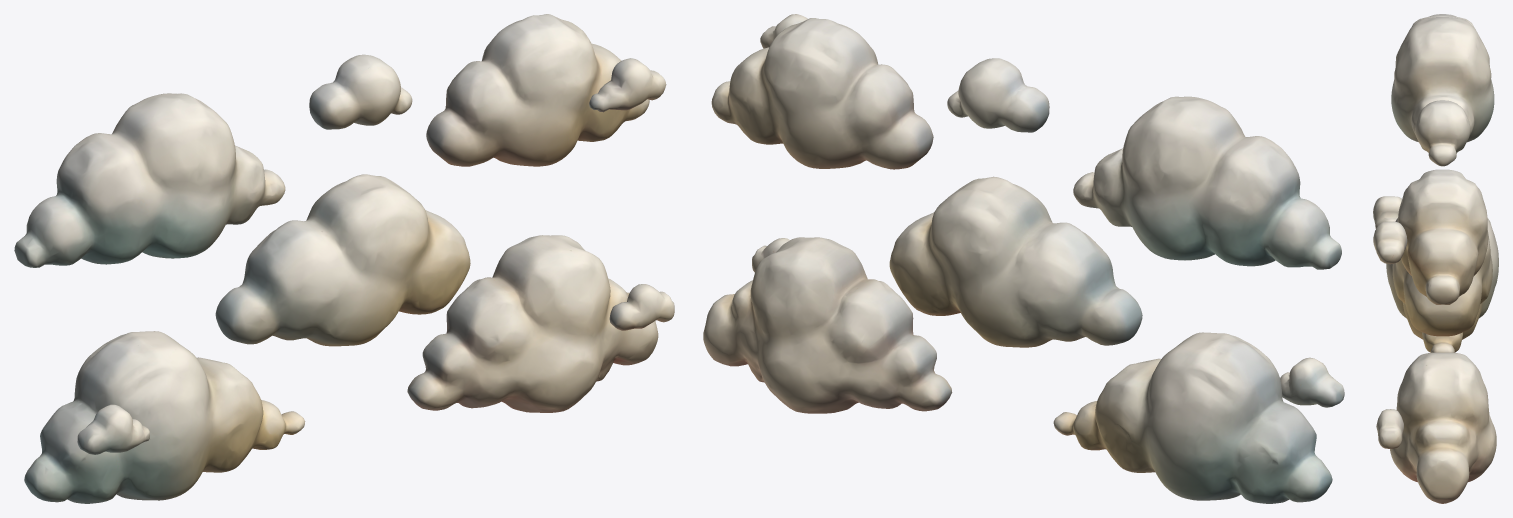
File: cloud.glb
3 views of the same model, side by side, from view 1: azimuth 30°, elevation 25°; view 2: azimuth 150°, elevation 25°; view 3: azimuth 270°, elevation 25° (orthographic). The views are drawn at different scales.
Parts seen in each view (by area): view 1: tripo_part_0, tripo_part_2, tripo_part_3, tripo_part_1, tripo_part_4, tripo_part_5, tripo_part_7, tripo_part_6; view 2: tripo_part_0, tripo_part_2, tripo_part_1, tripo_part_3, tripo_part_4, tripo_part_5; view 3: tripo_part_1, tripo_part_4, tripo_part_2, tripo_part_3, tripo_part_5, tripo_part_0, tripo_part_7, tripo_part_6.
Part boxes in pixels (left/top/right/bottom): tripo_part_0: left=24, top=331, right=305, bottom=503; tripo_part_2: left=14, top=93, right=285, bottom=267; tripo_part_3: left=215, top=174, right=470, bottom=346; tripo_part_1: left=407, top=235, right=658, bottom=412; tripo_part_4: left=426, top=14, right=649, bottom=166; tripo_part_5: left=309, top=54, right=412, bottom=129; tripo_part_7: left=589, top=58, right=666, bottom=112; tripo_part_6: left=609, top=284, right=674, bottom=330; tripo_part_0: left=1053, top=332, right=1344, bottom=503; tripo_part_2: left=1073, top=96, right=1341, bottom=269; tripo_part_1: left=703, top=237, right=952, bottom=413; tripo_part_3: left=889, top=176, right=1142, bottom=347; tripo_part_4: left=711, top=18, right=933, bottom=169; tripo_part_5: left=947, top=58, right=1049, bottom=132; tripo_part_1: left=1390, top=352, right=1496, bottom=503; tripo_part_4: left=1398, top=169, right=1488, bottom=304; tripo_part_2: left=1391, top=14, right=1494, bottom=153; tripo_part_3: left=1392, top=232, right=1492, bottom=336; tripo_part_5: left=1415, top=100, right=1470, bottom=166; tripo_part_0: left=1373, top=196, right=1498, bottom=352; tripo_part_7: left=1373, top=221, right=1407, bottom=264; tripo_part_6: left=1376, top=409, right=1403, bottom=448.
Bounding box in the file's own units: 0.9782 × 0.5871 × 0.2117.
1 material, 1 textured.
